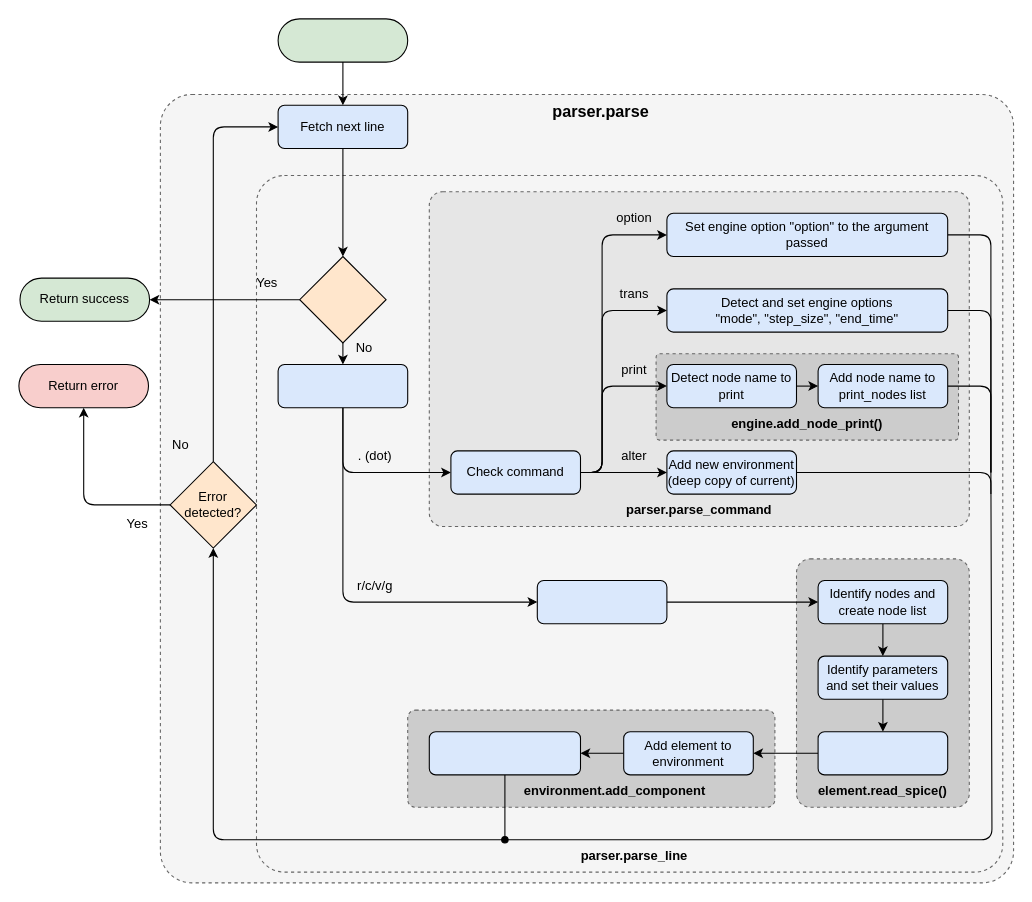
This 1032x902 diagram has some shape labels left out. The shapes that lost their labels are listed below. From the top down, each one's centre as x and y in pixels, then its label:
pixel 342 40: Entry
pixel 342 299: End of file?
pixel 342 385: Detect first character
pixel 601 601: Create the element object (eg. v_pwl)
pixel 504 753: Add all nodes in element to environment
pixel 882 753: Initialize state
